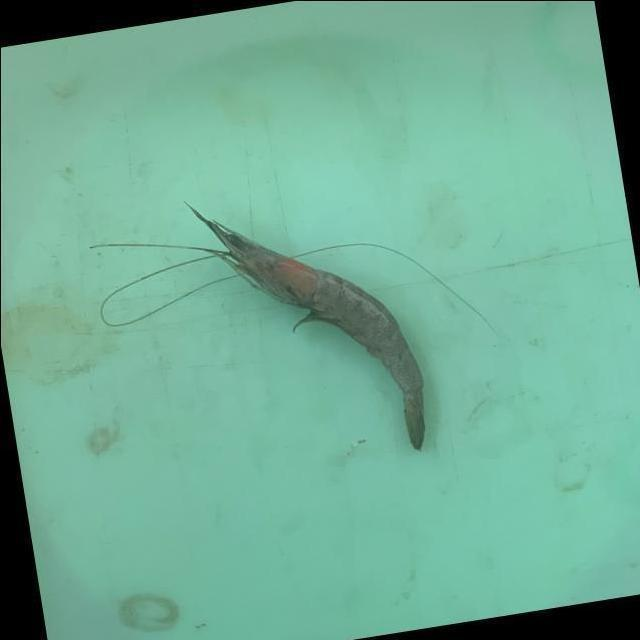shrimp: (91, 203, 425, 449)
